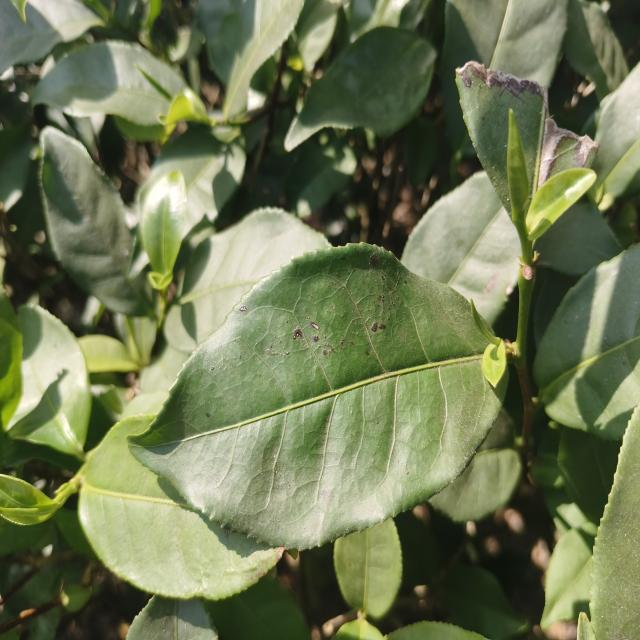Leaf: (129, 244, 507, 549), (78, 414, 283, 600), (165, 207, 330, 349), (40, 127, 152, 316), (533, 245, 640, 439), (285, 26, 436, 151), (442, 0, 568, 147), (401, 172, 520, 325), (32, 41, 186, 126), (5, 305, 91, 457), (137, 125, 246, 227), (429, 409, 522, 522), (223, 0, 304, 120), (0, 0, 103, 74), (593, 62, 640, 208), (334, 518, 402, 618), (205, 576, 311, 640), (442, 564, 528, 640), (534, 202, 622, 276), (564, 0, 628, 101), (558, 426, 622, 525), (541, 522, 597, 630), (287, 138, 356, 217), (141, 171, 186, 291), (526, 169, 596, 240), (127, 595, 218, 640), (0, 474, 79, 525), (78, 334, 141, 373), (404, 118, 436, 186)
